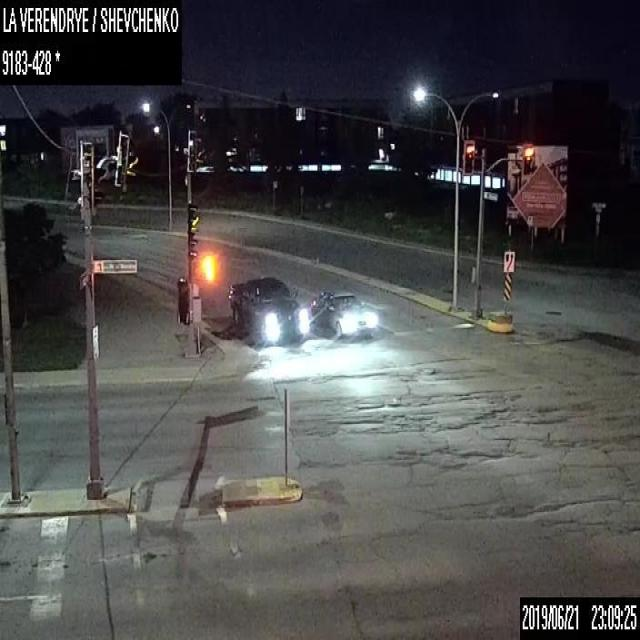vehicle: (228, 275, 306, 344), (309, 289, 377, 337)
